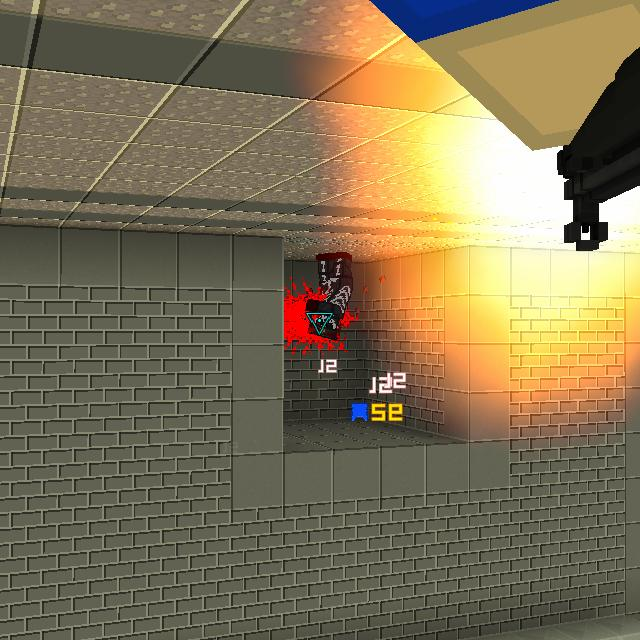enemy: (304, 252, 356, 344)
